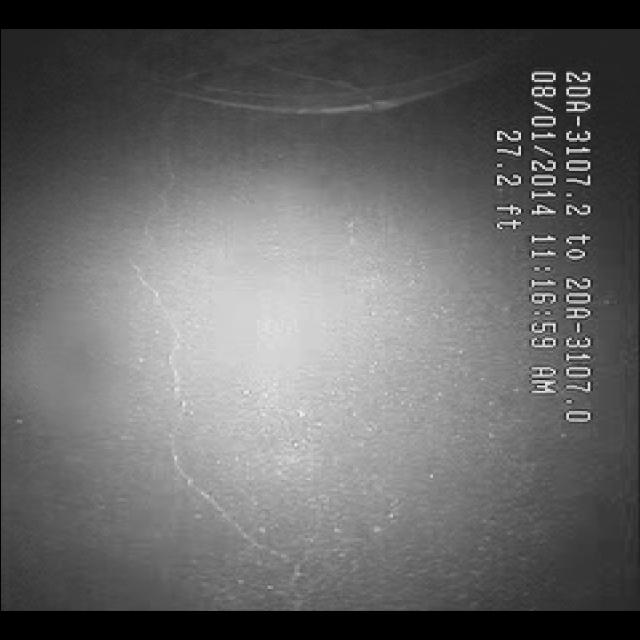Crack: (113, 142, 262, 530)
